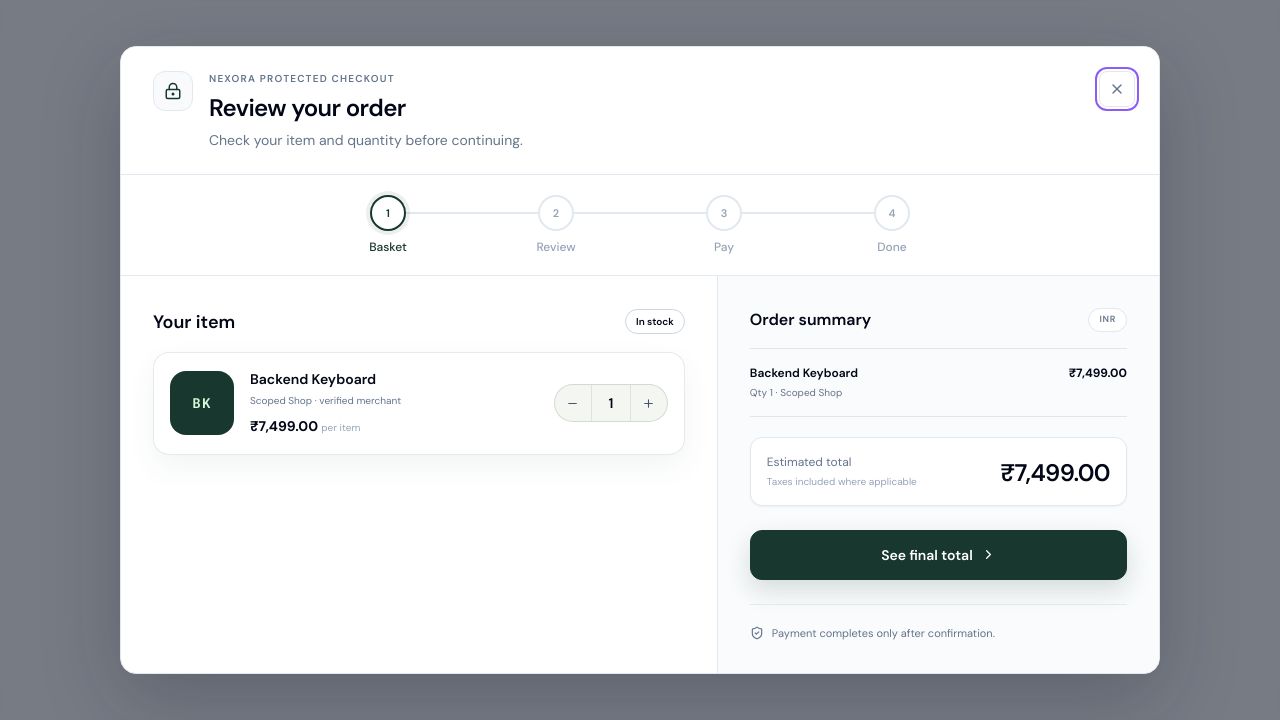
Test: approval-gated checkout › surfaces a deterministic policy block without opening Razorpay
Click the button "See final total" at (938,555), box 750,530 -> 1127,580
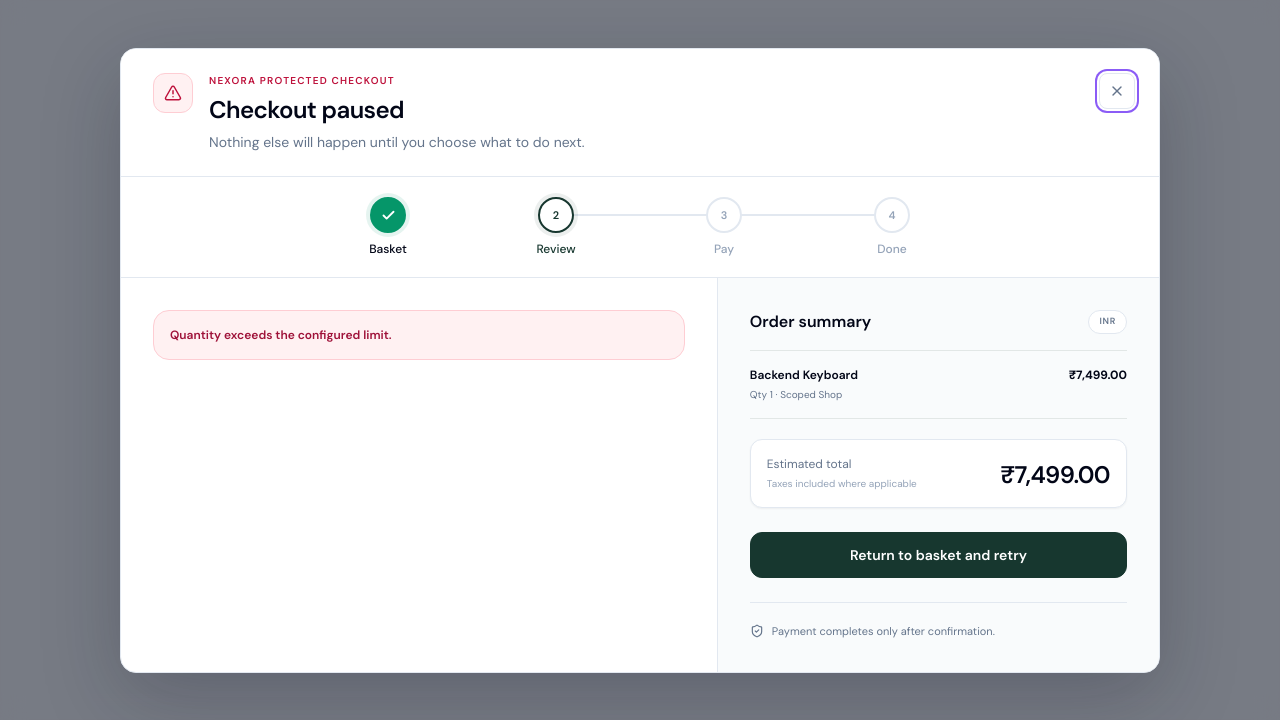
Check: the text "Quantity exceeds the configured limit." is shown, box 170,327 -> 392,343
Check: the heading "Checkout paused" is shown, box 209,94 -> 404,125
